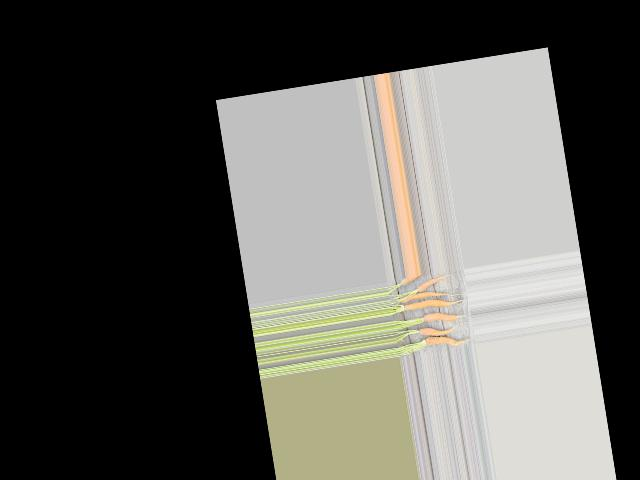carrot: (393, 275, 416, 290)
